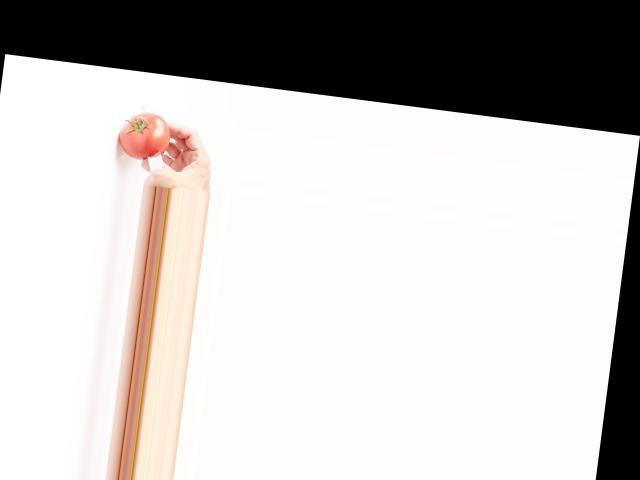tomato: (117, 109, 173, 162)
